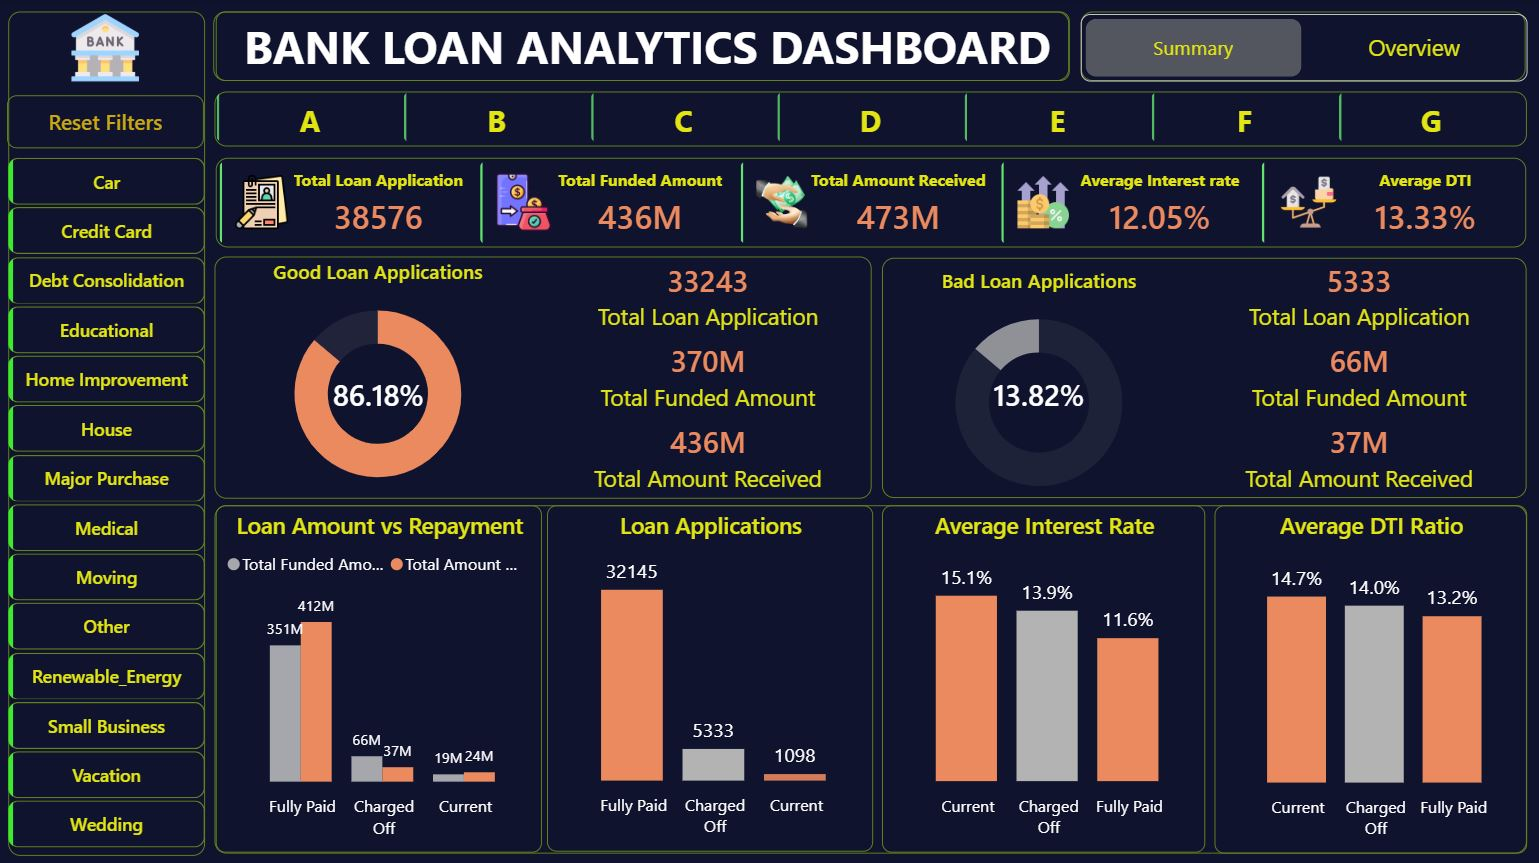

The page's visual inventory and layout, read from the dashboard file:
{"tool":"powerbi","page":{"name":"Summary","canvas":[1280,720],"ordinal":0},"visuals":[{"type":"shape","box":[9.1,10.2,163.3,699.8],"z":0},{"type":"shape","box":[179.8,10.8,709.5,57.5],"z":1000},{"type":"shape","box":[180.3,77.1,1087.7,45.4],"z":2000},{"type":"shape","box":[898.9,10.8,369.1,57.5],"z":3000},{"type":"shape","box":[180.7,132.1,1086.8,74.8],"z":4000},{"type":"shape","box":[180.7,213.1,544.7,200.7],"z":5000},{"type":"shape","box":[180.7,420,1088.1,289.2],"z":6000},{"type":"shape","box":[734.1,214.4,534.7,199.4],"z":7000},{"type":"advancedSlicerVisual","fields":{"Values":["financial_loan.PURPOSE"]},"box":[9.1,131.6,163.3,577.3],"z":8000},{"type":"advancedSlicerVisual","fields":{"Values":["financial_loan.GRADE"]},"box":[180.9,76.8,1086.7,43.4],"z":9000},{"type":"image","box":[14.9,12.4,149.9,55.8],"z":10000},{"type":"cardVisual","fields":{"Data":["financial_loan.Total Loan Application","financial_loan.Total Funded Amount","financial_loan.Total Amount Received","financial_loan.Average Interest rate","financial_loan.Average DTI"]},"box":[180.9,131.3,1086.7,74.3],"z":11000},{"type":"donutChart","title":"Good Loan Applications","fields":{"Category":["financial_loan.Good_vs_Bad Loan"],"Y":["financial_loan.Total Loan Application"]},"box":[179.5,214.4,273,199.4],"z":12000},{"type":"donutChart","title":"Bad Loan Applications","fields":{"Category":["financial_loan.Good_vs_Bad Loan"],"Y":["financial_loan.Total Loan Application"]},"box":[733.6,221.8,260.2,199.5],"z":13000},{"type":"cardVisual","fields":{"Data":["financial_loan.Good Loan %"]},"box":[260.5,307.8,112.2,36.1],"z":14000},{"type":"cardVisual","fields":{"Data":["financial_loan.Bad Loan %"]},"box":[806.4,307.8,115.9,36.1],"z":15000},{"type":"cardVisual","fields":{"Data":["financial_loan.Total Loan Application","financial_loan.Total Funded Amount","financial_loan.Total Amount Received"]},"box":[453.7,214.4,271.7,199.4],"z":16000},{"type":"cardVisual","fields":{"Data":["financial_loan.Total Loan Application","financial_loan.Total Funded Amount","financial_loan.Total Amount Received"]},"box":[993.3,214.4,271.7,199.4],"z":17000},{"type":"clusteredColumnChart","title":"Loan Amount vs Repayment","fields":{"Category":["financial_loan.LOAN_STATUS"],"Y":["financial_loan.Total Funded Amount","financial_loan.Total Amount Received"]},"box":[181.3,419.7,270.5,288.1],"z":18000},{"type":"clusteredColumnChart","title":"Loan Applications","fields":{"Category":["financial_loan.LOAN_STATUS"],"Y":["financial_loan.Total Loan Application"]},"box":[456,420.1,270.1,287.5],"z":19000},{"type":"clusteredColumnChart","title":"Average Interest Rate","fields":{"Category":["financial_loan.LOAN_STATUS"],"Y":["financial_loan.Average Interest rate"]},"box":[734.1,420,268,287.9],"z":20000},{"type":"clusteredColumnChart","title":"Average DTI Ratio","fields":{"Category":["financial_loan.LOAN_STATUS"],"Y":["financial_loan.Average DTI"]},"box":[1009.3,419.7,259.1,289.1],"z":21000},{"type":"actionButton","box":[8.7,79.3,163.6,44],"z":22000},{"type":"textbox","box":[181,10.8,708.3,57.5],"z":23000},{"type":"pageNavigator","box":[898.9,12,370.3,56.3],"z":24000}]}

Visuals, with their boxes in screenshot pixels (x1, y1, x2, y2), scaled from the page's 1280x720 canvas onto the 1539x863 screenshot:
shape: <region>11, 12, 207, 851</region>
shape: <region>216, 13, 1069, 82</region>
shape: <region>217, 92, 1525, 147</region>
shape: <region>1081, 13, 1525, 82</region>
shape: <region>217, 158, 1524, 248</region>
shape: <region>217, 255, 872, 496</region>
shape: <region>217, 503, 1526, 850</region>
shape: <region>883, 257, 1526, 496</region>
advancedSlicerVisual - financial_loan.PURPOSE: <region>11, 158, 207, 850</region>
advancedSlicerVisual - financial_loan.GRADE: <region>218, 92, 1524, 144</region>
image: <region>18, 15, 198, 82</region>
cardVisual - financial_loan.Total Loan Application x financial_loan.Total Funded Amount: <region>218, 157, 1524, 246</region>
"Good Loan Applications" donutChart: <region>216, 257, 544, 496</region>
"Bad Loan Applications" donutChart: <region>882, 266, 1195, 505</region>
cardVisual - financial_loan.Good Loan %: <region>313, 369, 448, 412</region>
cardVisual - financial_loan.Bad Loan %: <region>970, 369, 1109, 412</region>
cardVisual - financial_loan.Total Loan Application x financial_loan.Total Funded Amount: <region>546, 257, 872, 496</region>
cardVisual - financial_loan.Total Loan Application x financial_loan.Total Funded Amount: <region>1194, 257, 1521, 496</region>
"Loan Amount vs Repayment" clusteredColumnChart: <region>218, 503, 543, 848</region>
"Loan Applications" clusteredColumnChart: <region>548, 504, 873, 848</region>
"Average Interest Rate" clusteredColumnChart: <region>883, 503, 1205, 848</region>
"Average DTI Ratio" clusteredColumnChart: <region>1214, 503, 1525, 850</region>
actionButton: <region>10, 95, 207, 148</region>
textbox: <region>218, 13, 1069, 82</region>
pageNavigator: <region>1081, 14, 1526, 82</region>
